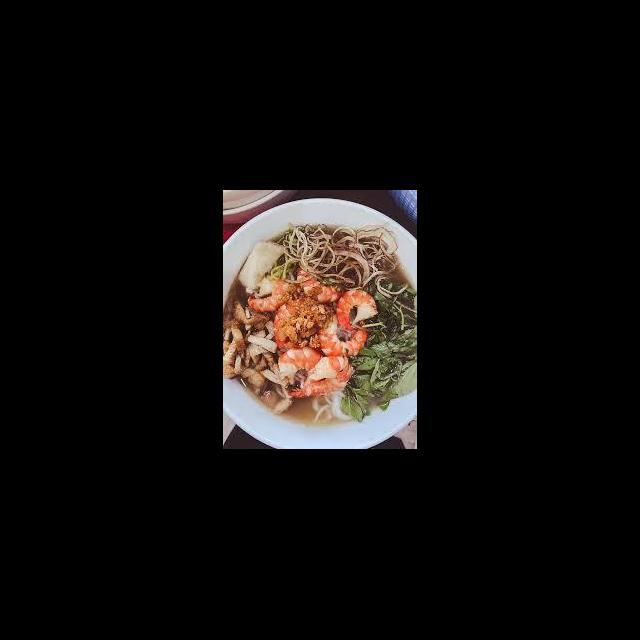bun: (327, 388, 356, 426)
ca: (234, 236, 290, 296)
thit heo quay: (243, 328, 279, 357), (256, 364, 291, 388), (228, 316, 249, 354)
tom: (270, 294, 335, 354), (284, 352, 357, 402), (274, 344, 329, 404), (316, 308, 371, 360), (295, 258, 346, 306), (333, 286, 379, 334), (245, 274, 294, 316)
